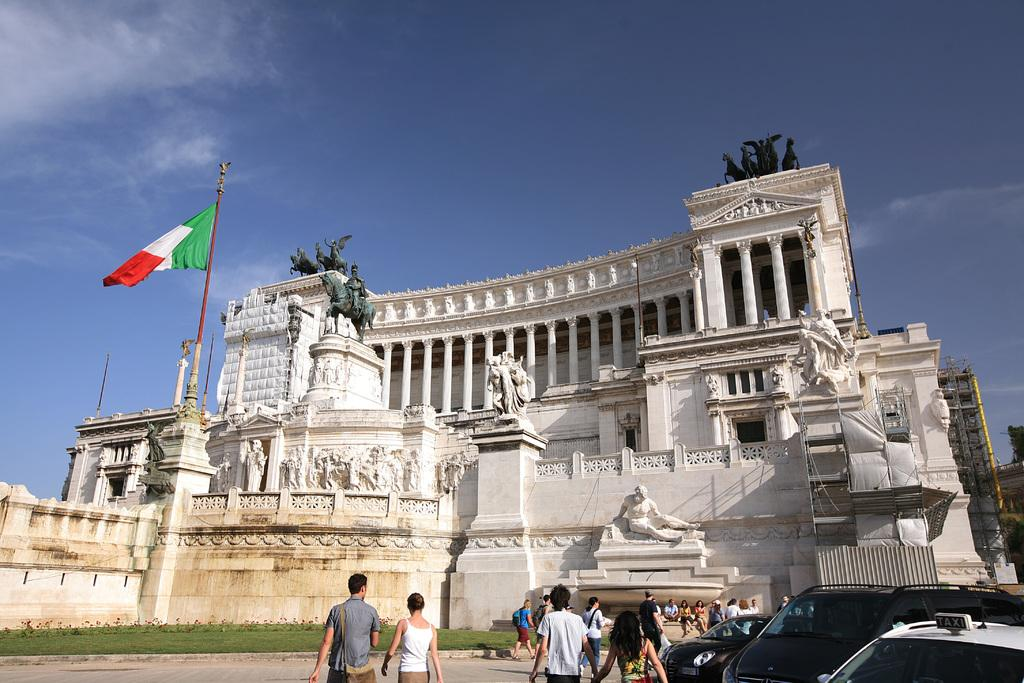Car: (730, 588, 1023, 682), (833, 616, 1023, 682), (660, 614, 773, 682)
